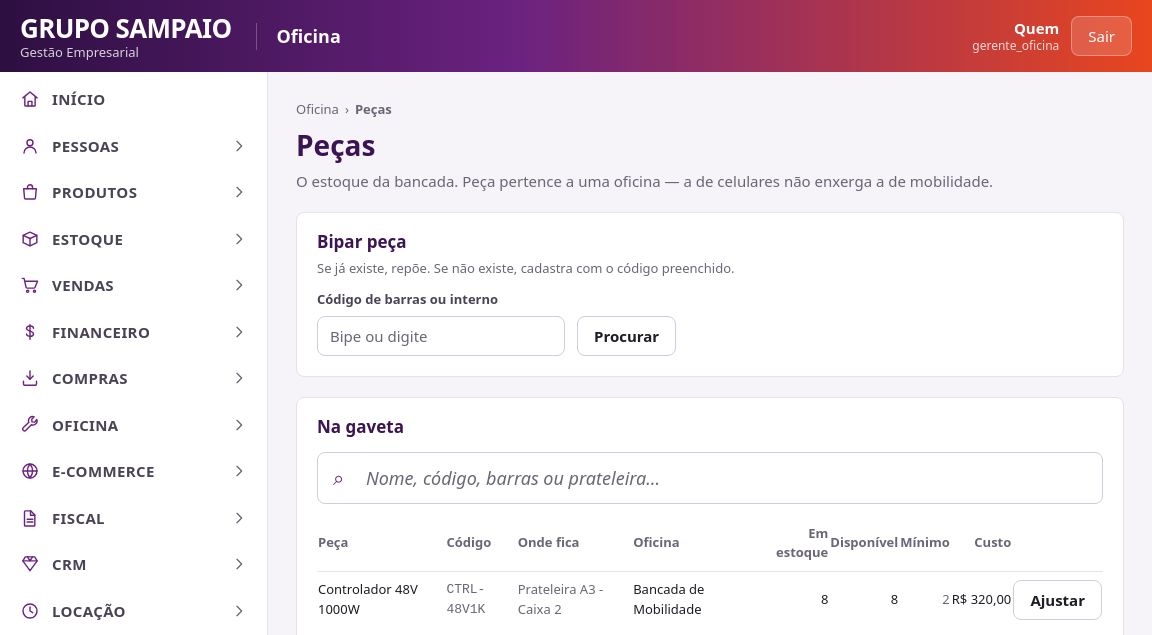
it: bipar resolve › código que não existe abre o CADASTRO com o código preenchido
Expected: the text "Controlador 48V 1000W" is shown, [317,571,445,628]
In the field with placeholder "Bipe ou digite": (441, 336) [317,316,565,356], type "7899999999999"
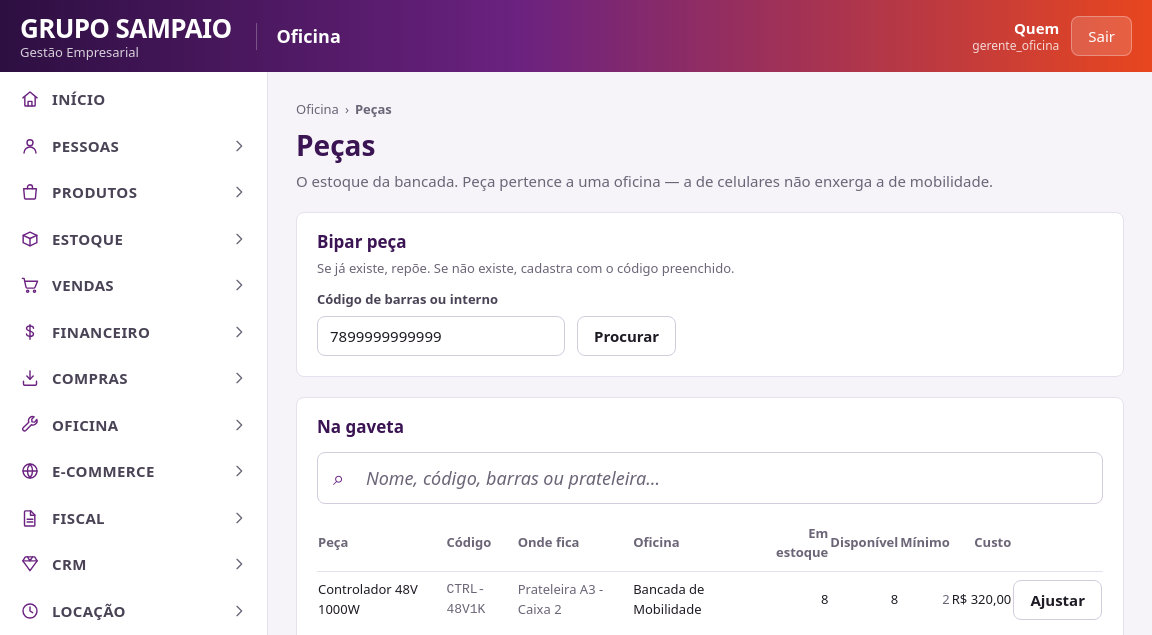
Click the button "Procurar": (627, 336) [577,316,676,356]
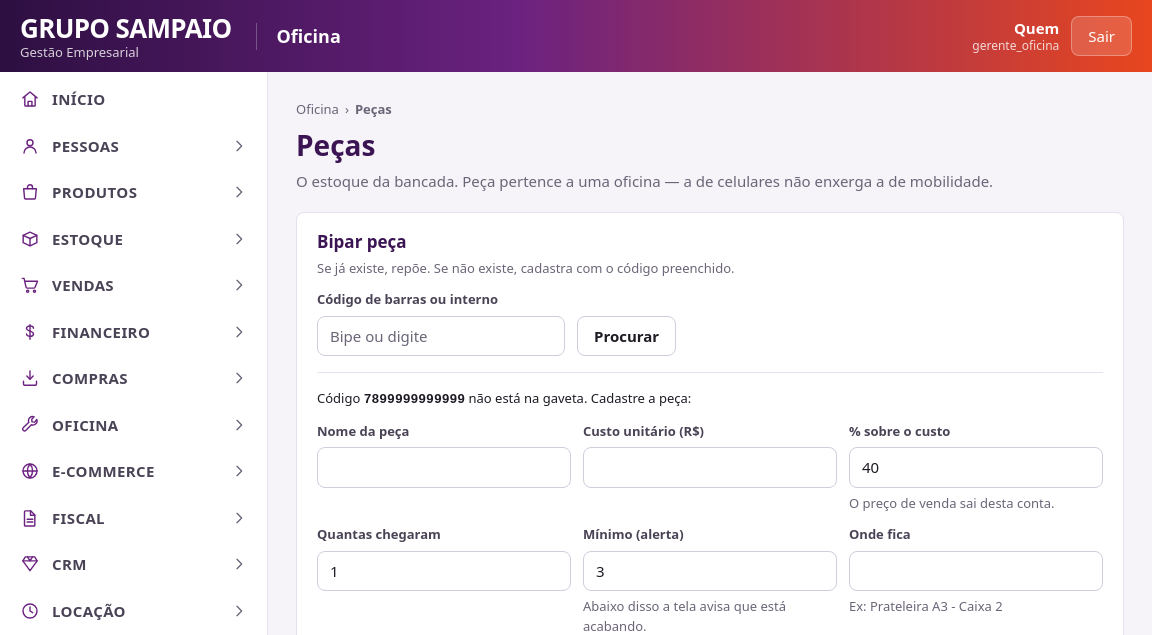
Expected: the text "7899999999999" is shown, [364,392,465,407]
